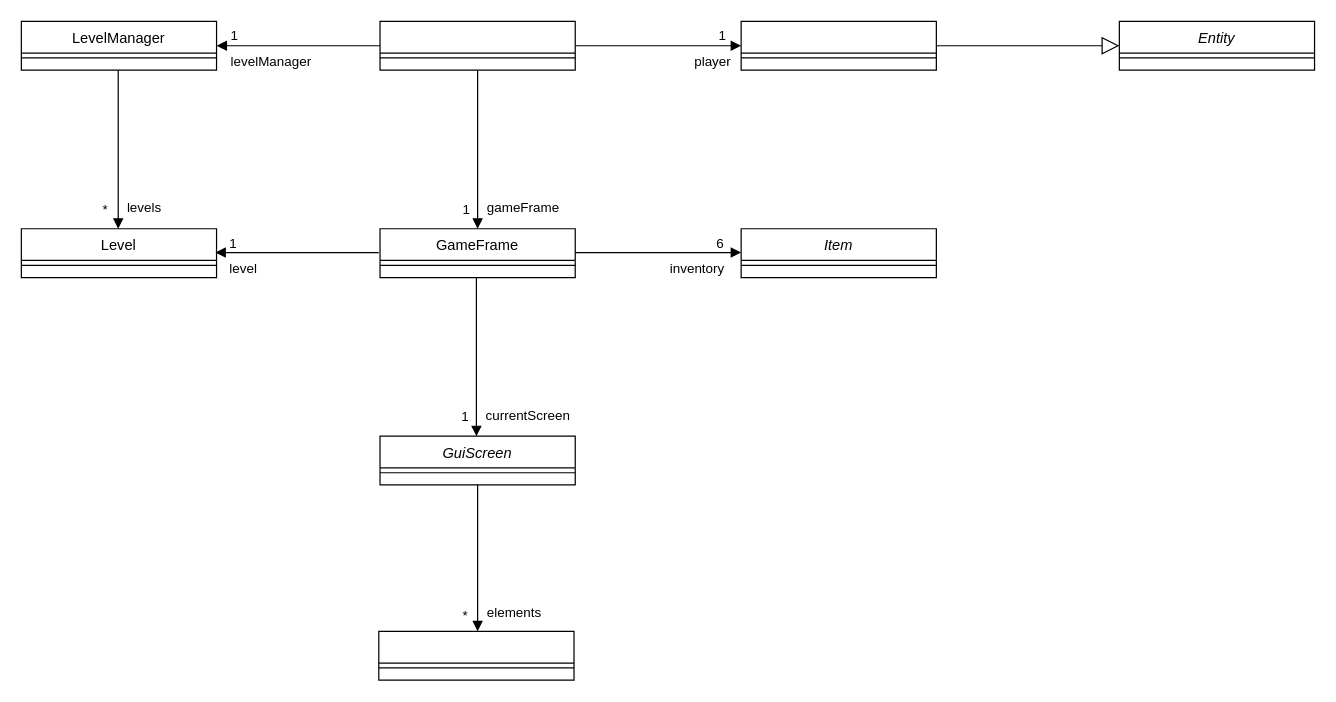
The diagram is 1336 pixels wide and 702 high, and some of its shapes have lost their labels. The centre of each missing label's shape, as x and y in pixels:
"Element" goes at (476,655).
"EntityPlayer" goes at (838,45).
"TextAdventure" goes at (477,45).
